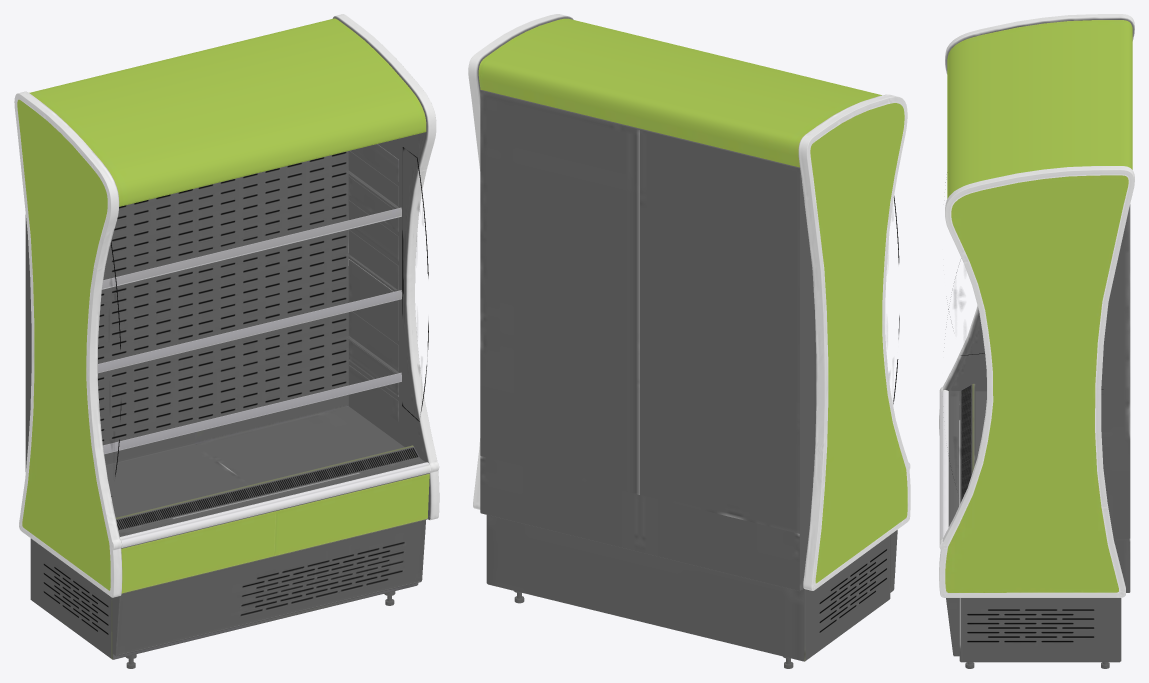
The model's file is cq_vitrina.glb.
3 views of the same model, side by side, from view 1: azimuth 30°, elevation 25°; view 2: azimuth 150°, elevation 25°; view 3: azimuth 270°, elevation 25° (orthographic). The views are drawn at different scales.
Visible parts, largest first — view 1: export_0; view 2: export_0; view 3: export_0.
Part boxes in pixels (x1,y1,x2,y2): export_0: (14,14,439,668); export_0: (468,14,910,668); export_0: (939,14,1134,668).
Bounding box in the file's own units: 1.3 × 2 × 0.6907.
Materials: 1 (1 with a texture image).
